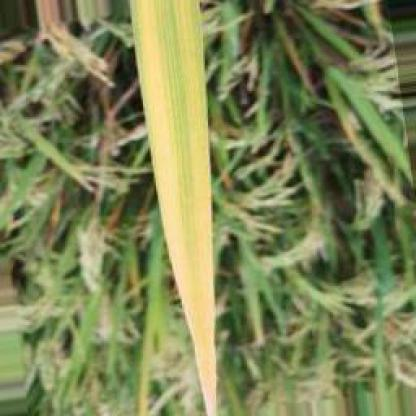Tungro: (128, 3, 216, 416)
